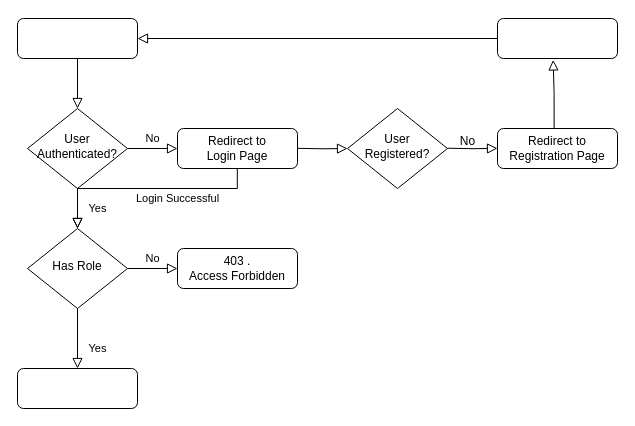
This 635x426 diagram has some shape labels left out. Each missing label, with the centre of its shape:
"Callback to the Web Application" belongs at (x=77, y=388).
"Email Verification and OTP configuration" belongs at (x=557, y=38).
"User accessing Web Application" belongs at (x=77, y=38).
